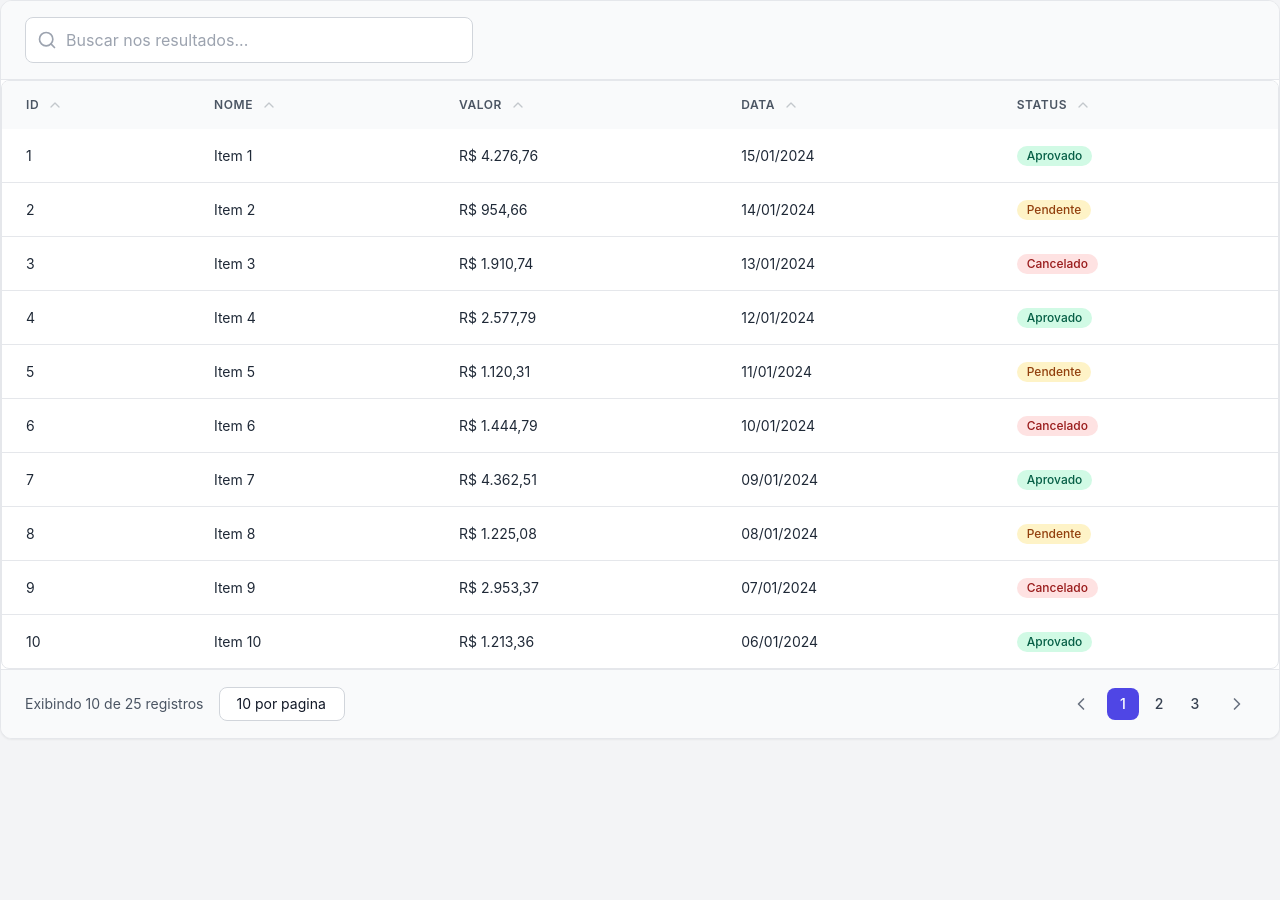
DataTable › Pagination › should navigate to next page
Click the 5th button: (1237, 704) x1=1219 y1=686 x2=1255 y2=722
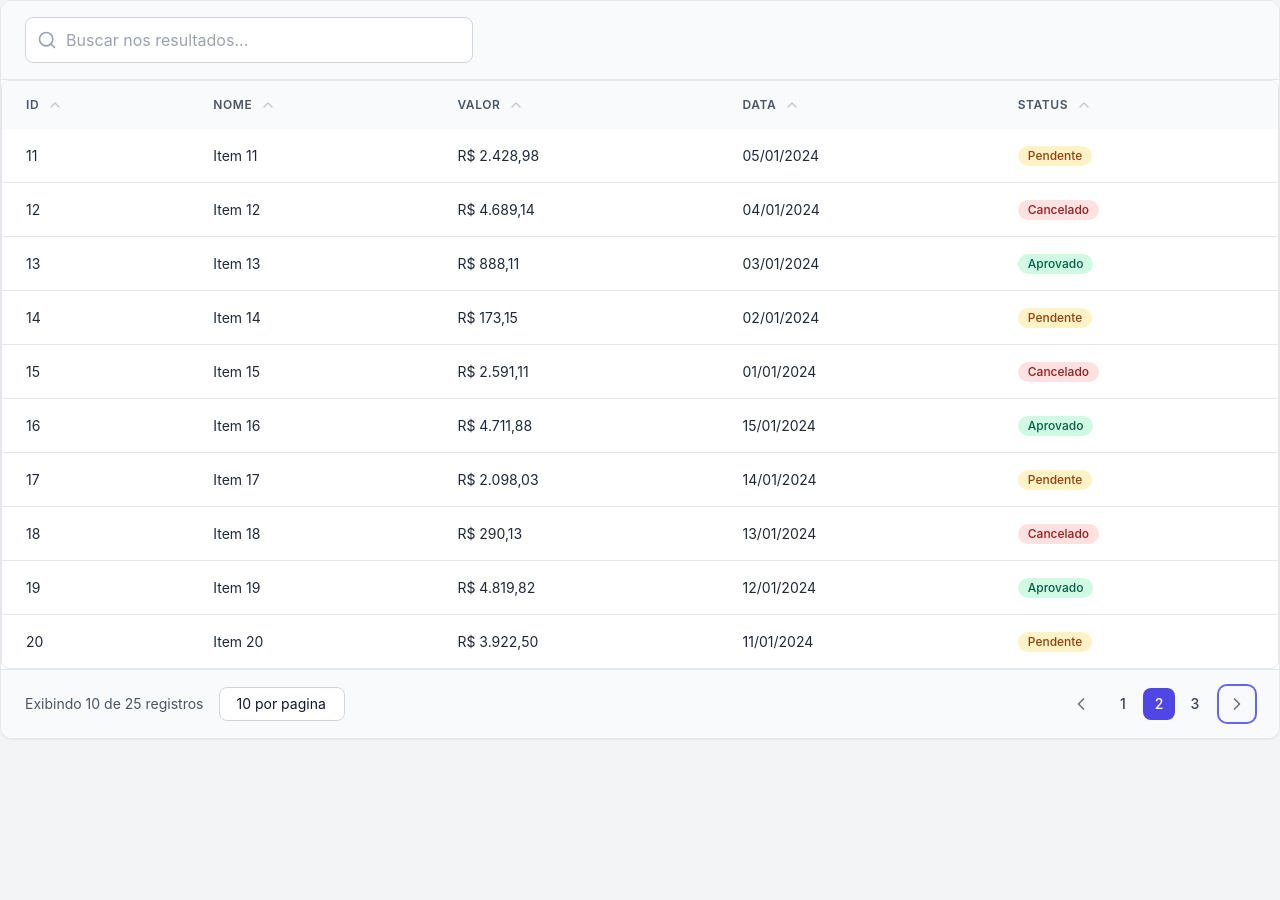
expect the text "Item 11" is shown: met, box x1=189 y1=129 x2=433 y2=182
